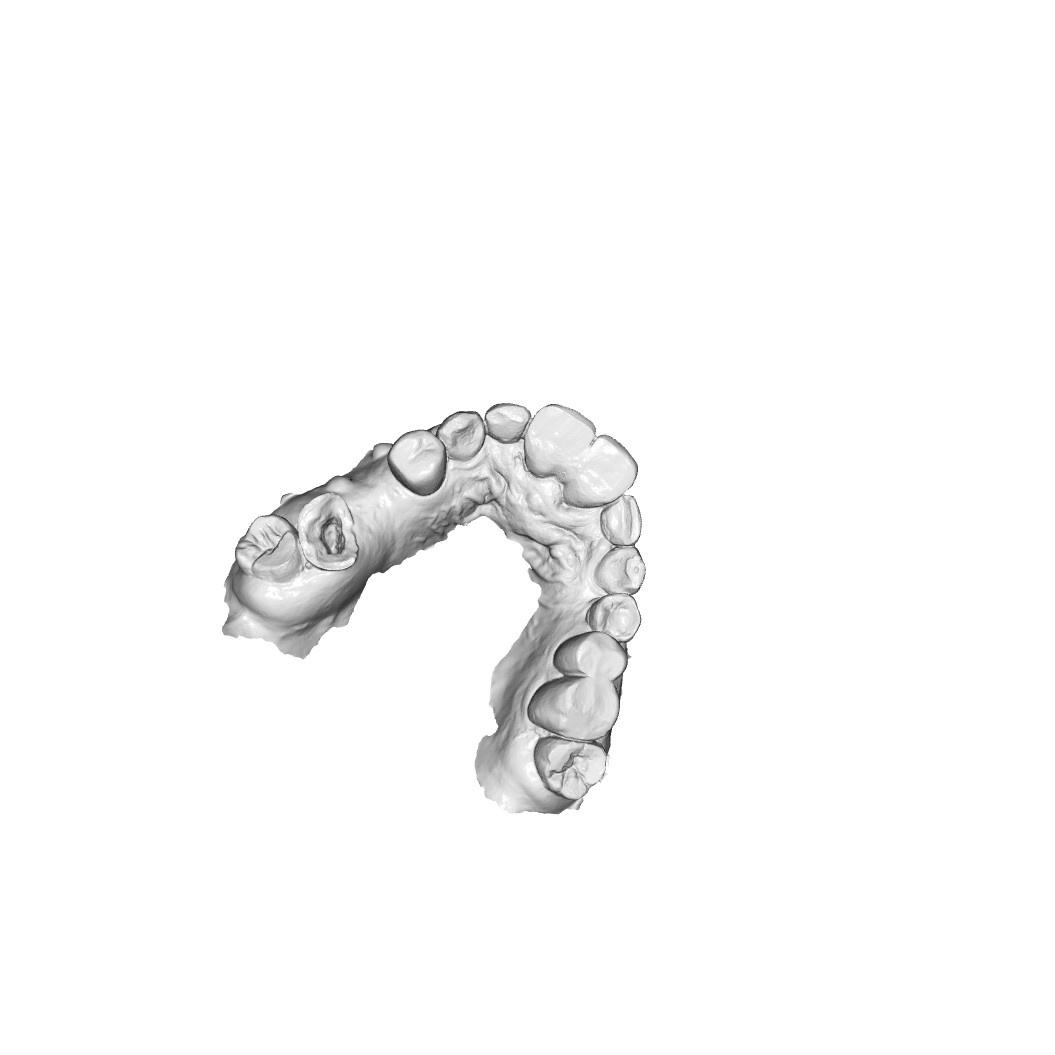canine: (592, 542, 653, 595), (438, 406, 485, 462)
incisor: (522, 402, 593, 482), (563, 436, 633, 506), (597, 491, 640, 544), (486, 400, 530, 448)
molar: (234, 511, 304, 580), (532, 737, 607, 801), (533, 681, 615, 738)
premolar: (559, 627, 637, 682), (386, 429, 450, 495), (586, 589, 645, 640)
